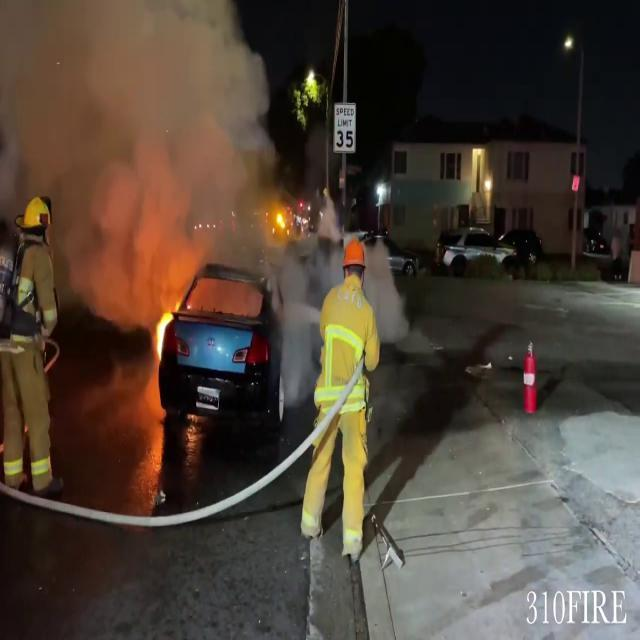Fire: (152, 302, 172, 369)
Smoke: (0, 0, 305, 311)
